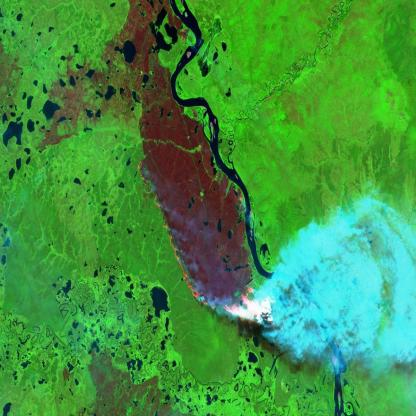fire: (136, 151, 276, 331)
